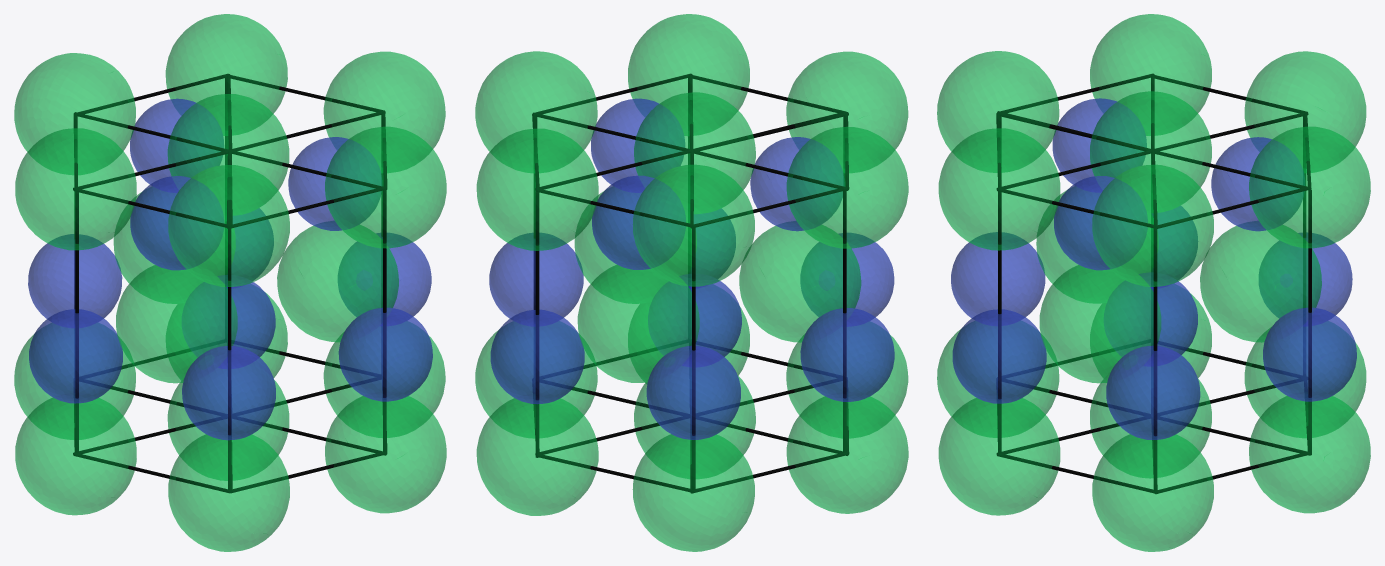
The model's file is blendaZnS.gltf.
3 renders of one model, left to right at view 1: azimuth 30°, elevation 25°; view 2: azimuth 150°, elevation 25°; view 3: azimuth 270°, elevation 25°, orthographic.
Visible parts, largest first — view 1: Sphere.011_Sphere.015, Sphere.012_Sphere.016, Sphere.015_Sphere.044, Sphere.032_Sphere.061, Sphere.031_Sphere.060, Sphere.026_Sphere.055, Sphere.002_Sphere.009, Sphere.010_Sphere.014, Sphere.000_Sphere.042, Sphere.003_Sphere.043, Sphere.018_Sphere.039, Sphere.013_Sphere.017 (+27 smaller); view 2: Sphere.002_Sphere.009, Sphere.018_Sphere.039, Sphere.029_Sphere.058, Sphere.012_Sphere.016, Sphere.028_Sphere.057, Sphere.031_Sphere.060, Sphere.003_Sphere.043, Sphere.020_Sphere.041, Sphere.010_Sphere.014, Sphere.015_Sphere.044, Sphere.013_Sphere.017, Sphere.011_Sphere.015 (+27 smaller); view 3: Sphere.003_Sphere.043, Sphere.015_Sphere.044, Sphere.018_Sphere.039, Sphere.026_Sphere.055, Sphere.027_Sphere.056, Sphere.028_Sphere.057, Sphere.011_Sphere.015, Sphere.000_Sphere.042, Sphere.020_Sphere.041, Sphere.012_Sphere.016, Sphere.013_Sphere.017, Sphere.002_Sphere.009 (+27 smaller).
Boxes of the visible parts, x1,y1,x2,y2 form: Sphere.011_Sphere.015: (168, 165, 289, 286); Sphere.012_Sphere.016: (15, 128, 136, 250); Sphere.015_Sphere.044: (325, 126, 446, 248); Sphere.032_Sphere.061: (168, 430, 289, 551); Sphere.031_Sphere.060: (15, 394, 136, 515); Sphere.026_Sphere.055: (325, 392, 446, 513); Sphere.002_Sphere.009: (14, 53, 135, 174); Sphere.010_Sphere.014: (116, 261, 237, 383); Sphere.000_Sphere.042: (277, 221, 398, 342); Sphere.003_Sphere.043: (323, 51, 445, 172); Sphere.018_Sphere.039: (165, 14, 287, 135); Sphere.013_Sphere.017: (167, 94, 289, 215); Sphere.002_Sphere.009: (633, 164, 754, 286); Sphere.018_Sphere.039: (476, 128, 598, 250); Sphere.029_Sphere.058: (632, 430, 754, 551); Sphere.012_Sphere.016: (786, 126, 908, 248); Sphere.028_Sphere.057: (476, 394, 598, 515); Sphere.031_Sphere.060: (786, 392, 908, 513); Sphere.003_Sphere.043: (475, 51, 597, 172); Sphere.020_Sphere.041: (577, 261, 699, 382); Sphere.010_Sphere.014: (739, 221, 861, 342); Sphere.015_Sphere.044: (628, 14, 749, 135); Sphere.013_Sphere.017: (634, 92, 755, 213); Sphere.011_Sphere.015: (786, 51, 908, 172); Sphere.003_Sphere.043: (1092, 164, 1213, 286); Sphere.015_Sphere.044: (938, 128, 1060, 250); Sphere.018_Sphere.039: (1249, 126, 1370, 248); Sphere.026_Sphere.055: (938, 394, 1060, 515); Sphere.027_Sphere.056: (1092, 430, 1213, 551); Sphere.028_Sphere.057: (1249, 392, 1370, 513); Sphere.011_Sphere.015: (937, 51, 1059, 172); Sphere.000_Sphere.042: (1039, 261, 1161, 383); Sphere.020_Sphere.041: (1200, 221, 1321, 342); Sphere.012_Sphere.016: (1090, 14, 1211, 135); Sphere.013_Sphere.017: (1090, 91, 1211, 212); Sphere.002_Sphere.009: (1244, 51, 1366, 172).
Size of the model in its own units: 15.44 by 13.46 by 13.96.
